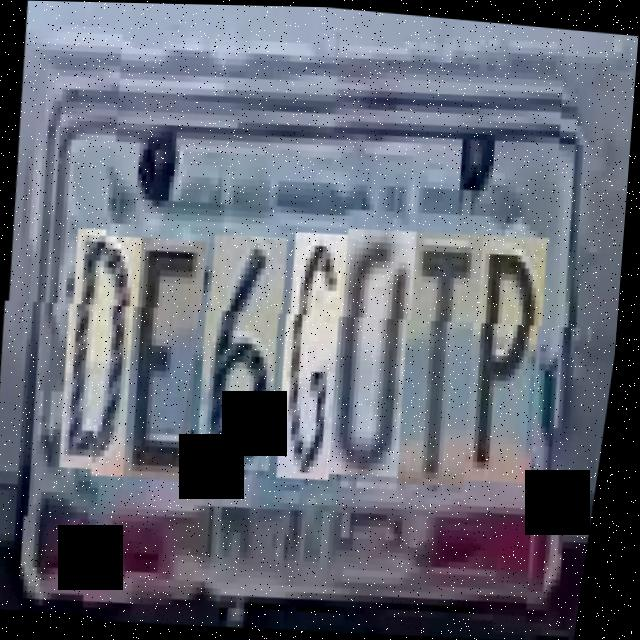0: (315, 226, 431, 480)
6: (184, 232, 301, 474)
D: (45, 231, 156, 478)
E: (110, 234, 221, 481)
G: (263, 231, 362, 483)
P: (452, 234, 563, 487)
T: (383, 230, 500, 490)
